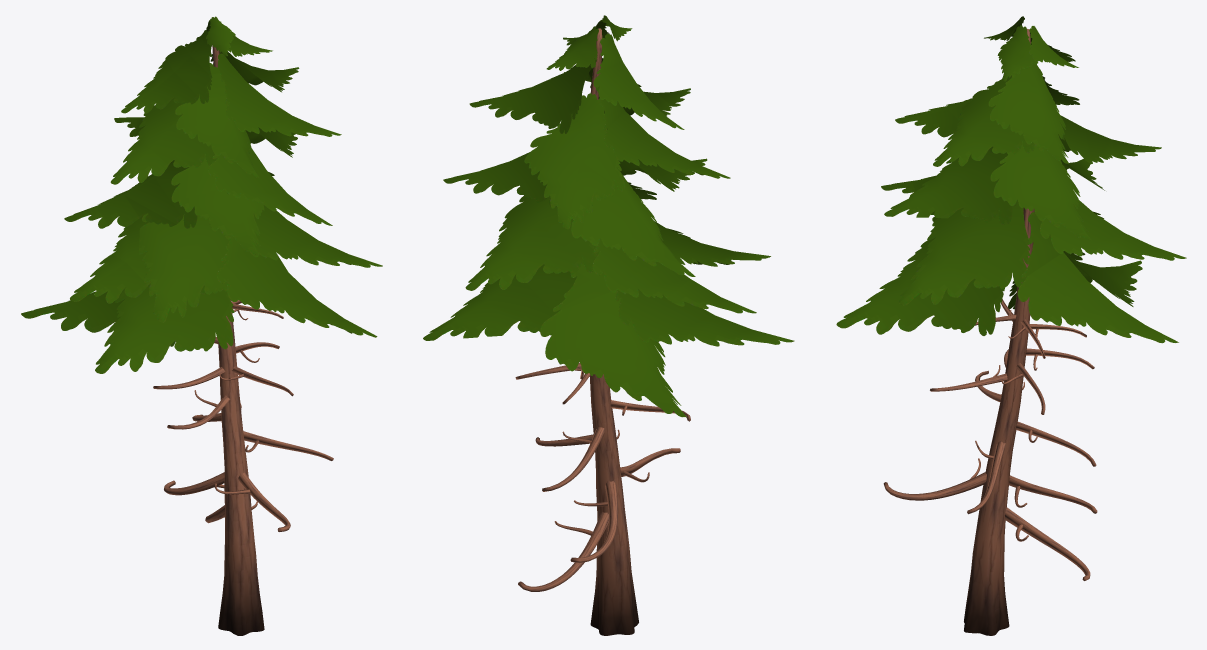
Rendered from pine_3.glb.
3 renders of one model, left to right at view 1: azimuth 30°, elevation 25°; view 2: azimuth 150°, elevation 25°; view 3: azimuth 270°, elevation 25°, orthographic. The views are drawn at different scales.
Parts seen in each view (by area): view 1: Pine_3; view 2: Pine_3; view 3: Pine_3.
Part boxes in pixels (x1=…): Pine_3: x1=21, y1=16, x2=382, y2=635; Pine_3: x1=423, y1=15, x2=794, y2=635; Pine_3: x1=836, y1=16, x2=1186, y2=635.
Bounding box in the file's own units: 3.61 × 7.39 × 4.
2 materials, 2 textured.
